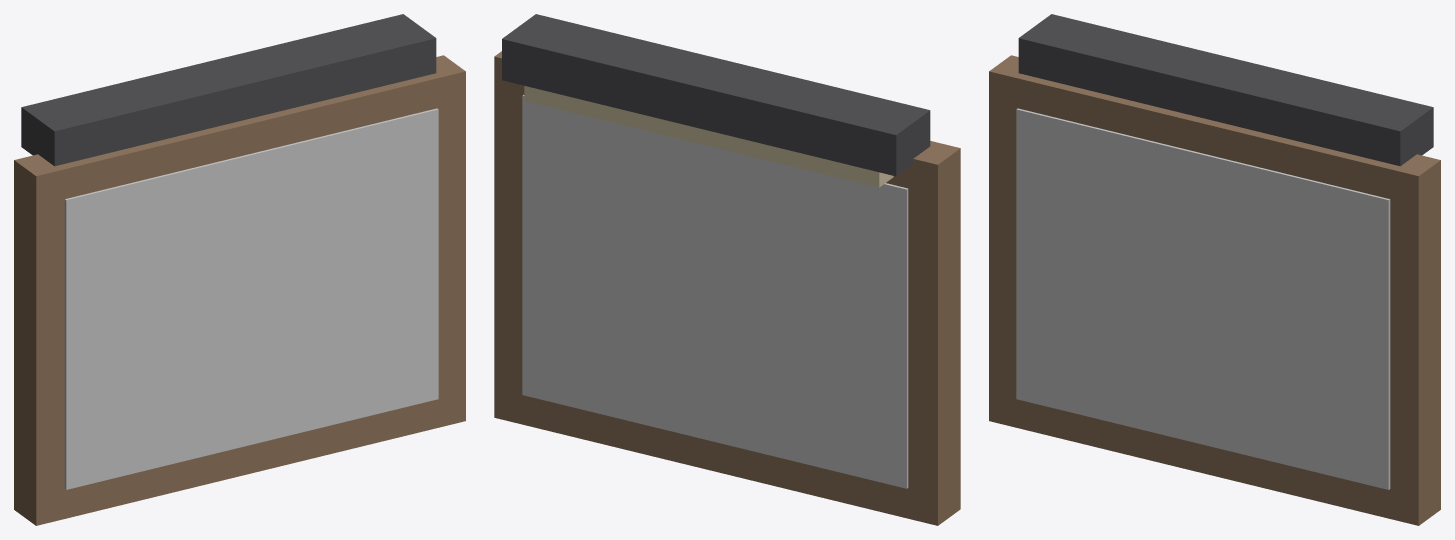
Rendered from ilu_quadro_luz.glb.
3 renders of one model, left to right at view 1: azimuth 30°, elevation 25°; view 2: azimuth 150°, elevation 25°; view 3: azimuth 330°, elevation 25°, orthographic. The views are drawn at different scales.
Visible parts, largest first — view 1: ILU_Quadro_Luz_v01; view 2: ILU_Quadro_Luz_v01; view 3: ILU_Quadro_Luz_v01.
Part boxes in pixels (x1=…): ILU_Quadro_Luz_v01: x1=14, y1=14, x2=465, y2=525; ILU_Quadro_Luz_v01: x1=494, y1=14, x2=960, y2=525; ILU_Quadro_Luz_v01: x1=989, y1=14, x2=1440, y2=525.
Size of the model in its own units: 0.45 by 0.385 by 0.0725.
